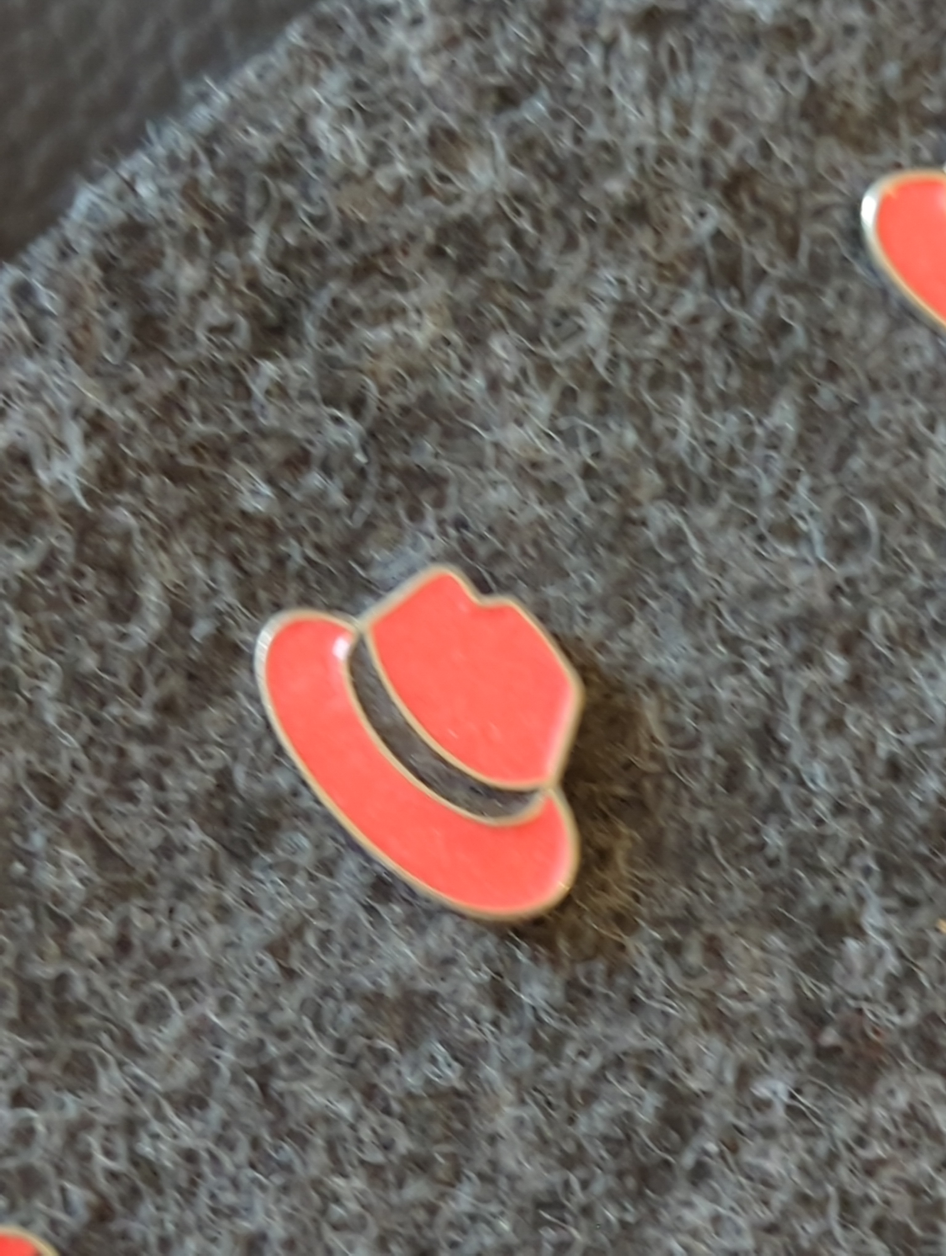Red-Hat: (164, 464, 657, 991)
